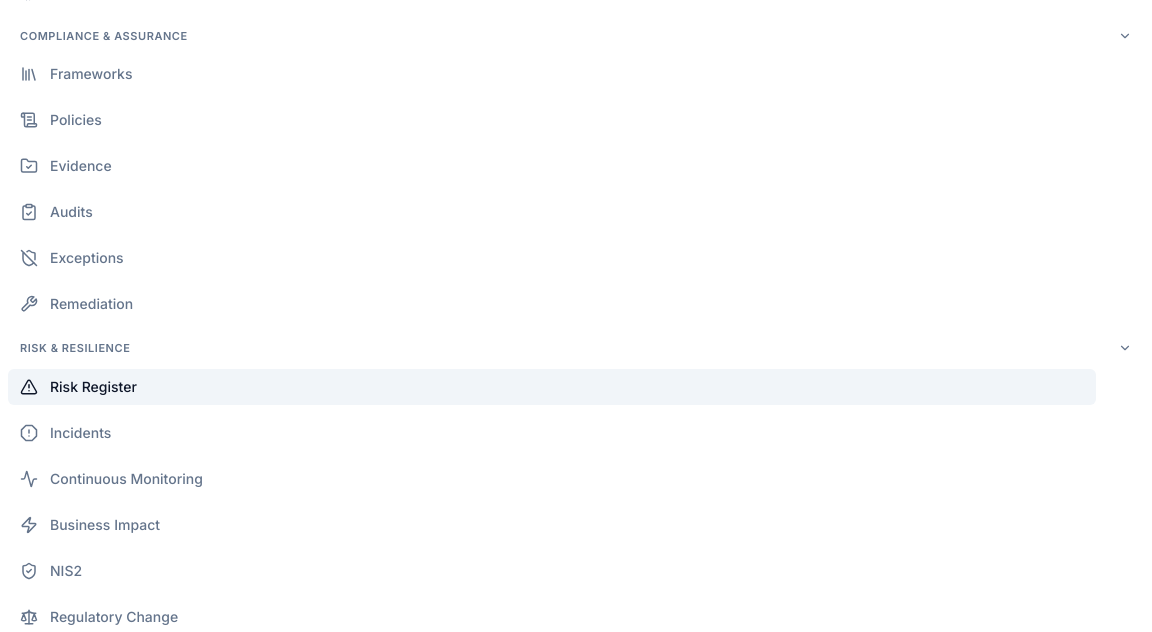
Test case: sidebar navigation › exposes grouped, collapsible navigation and the active page
(page scrolled)
Click the button "Risk & Resilience".
click(75, 348)  # box left=8, top=334, right=1144, bottom=362
(page scrolled)
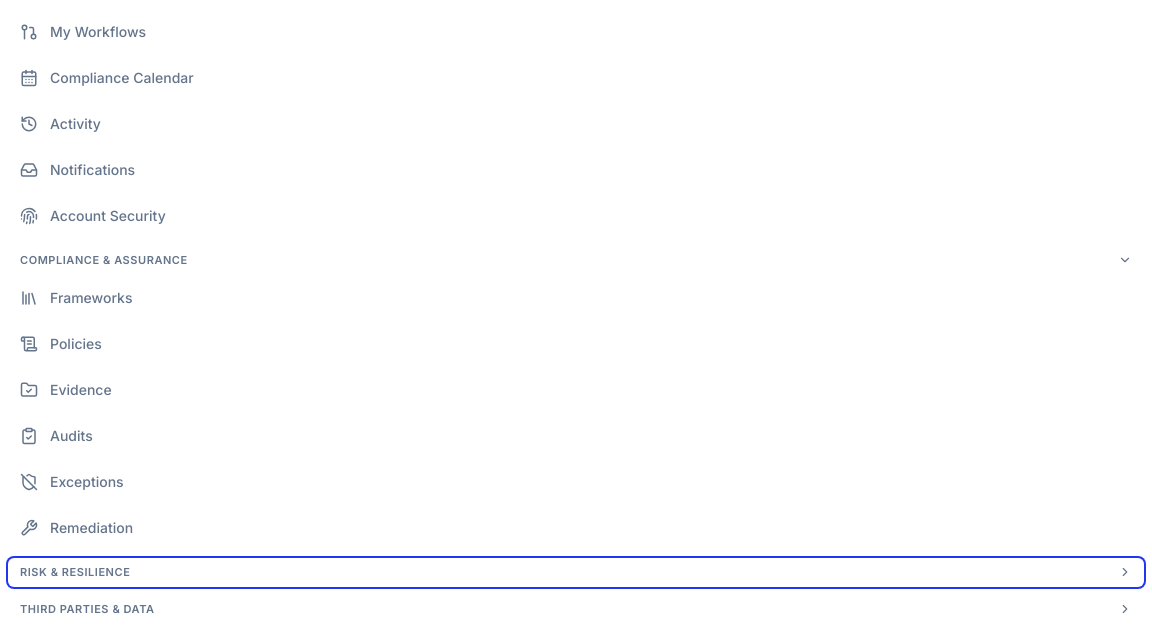
Result: the button "Risk & Resilience" is collapsed at left=8, top=558, right=1144, bottom=586
Result: the link "Risk Register" is gone
